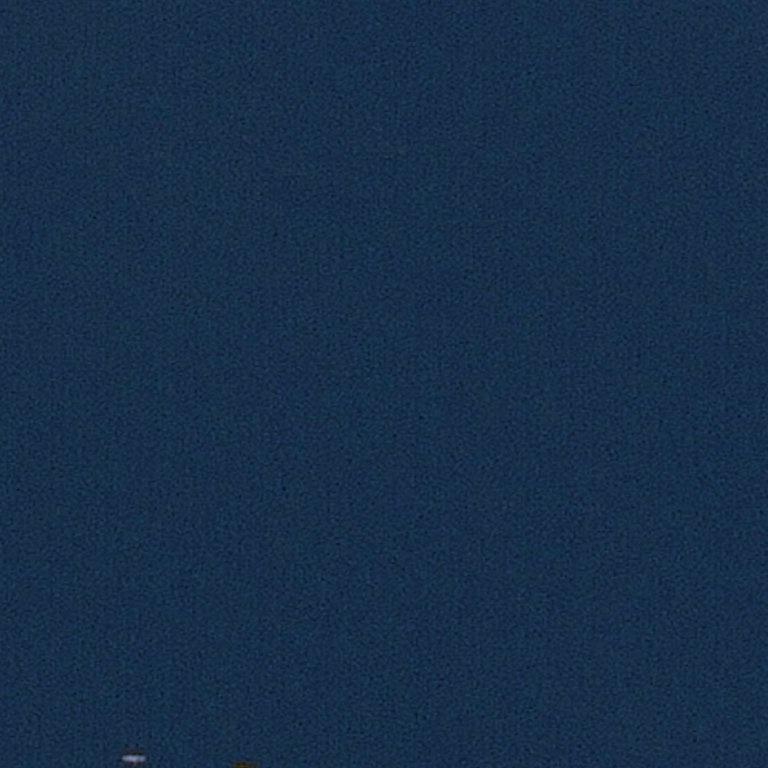ship: (44, 758, 71, 761), (121, 756, 124, 760), (144, 755, 147, 758), (146, 759, 146, 761)
